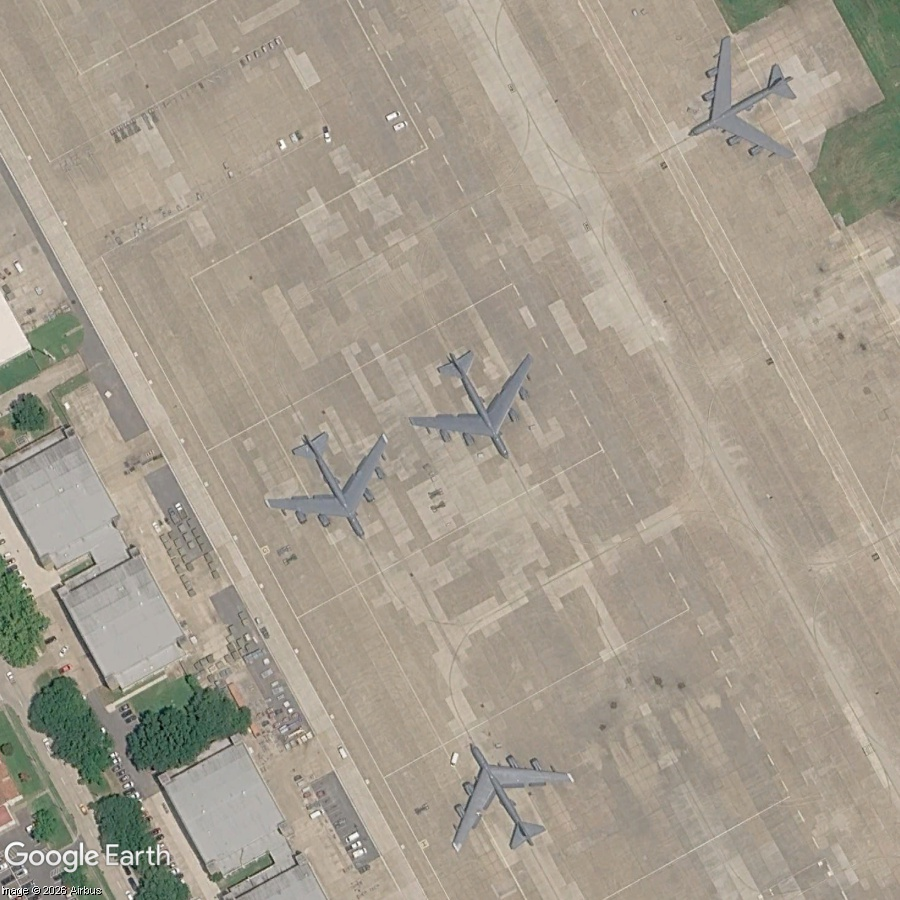Máy bay ném bom: (408, 702, 598, 886), (649, 13, 830, 201), (241, 396, 429, 576), (388, 316, 574, 495)
